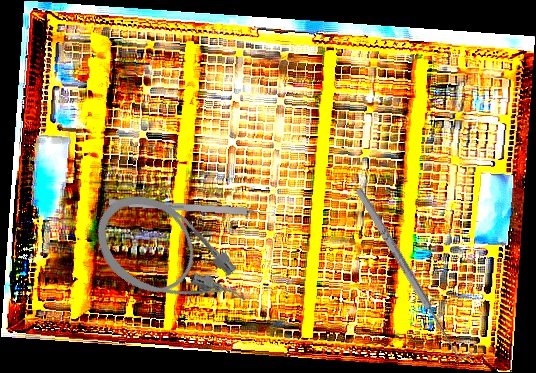Cannula: (78, 177, 263, 345)
Hook Surgical: (352, 181, 473, 366), (108, 198, 279, 218)
